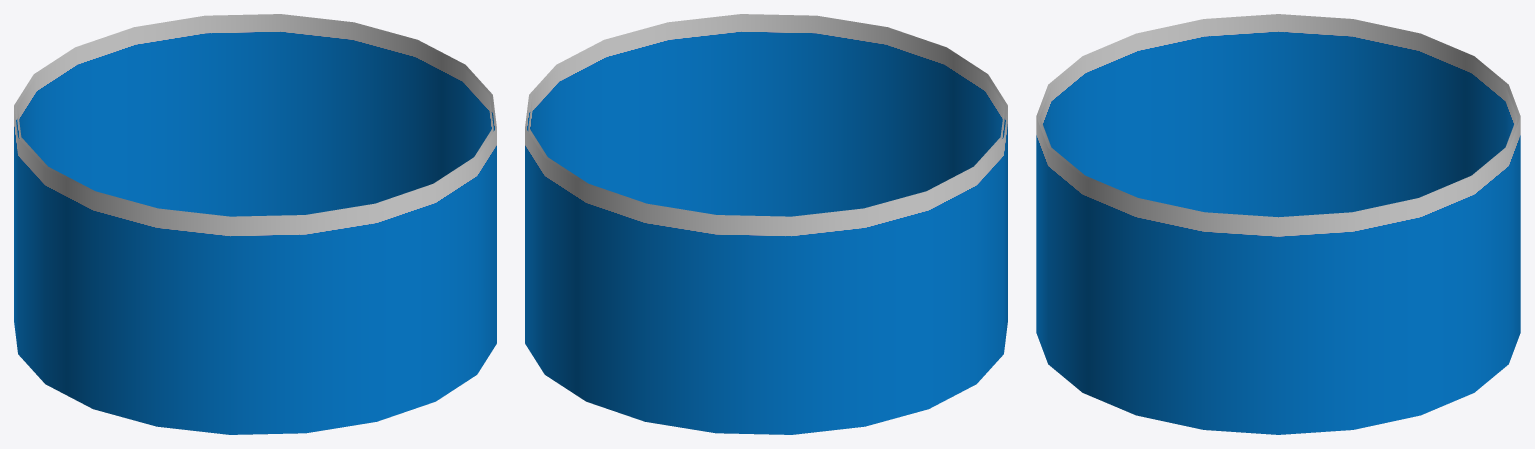
The model's file is waypoint-model.fbx.
The picture shows the model from 3 angles, left to right: view 1: azimuth 30°, elevation 25°; view 2: azimuth 150°, elevation 25°; view 3: azimuth 270°, elevation 25°; orthographic projection.
Parts seen in each view (by area): view 1: pCylinder2, pCylinder1; view 2: pCylinder2, pCylinder1; view 3: pCylinder2, pCylinder1.
Boxes of the visible parts, <box> form: pCylinder2: <box>14,14,496,434</box>; pCylinder1: <box>17,15,493,217</box>; pCylinder2: <box>525,14,1007,434</box>; pCylinder1: <box>528,15,1004,217</box>; pCylinder2: <box>1036,14,1520,434</box>; pCylinder1: <box>1039,15,1517,218</box>.
Size of the model in its own units: 2.03 by 1 by 2.03.
Materials: 1 (1 with a texture image).
